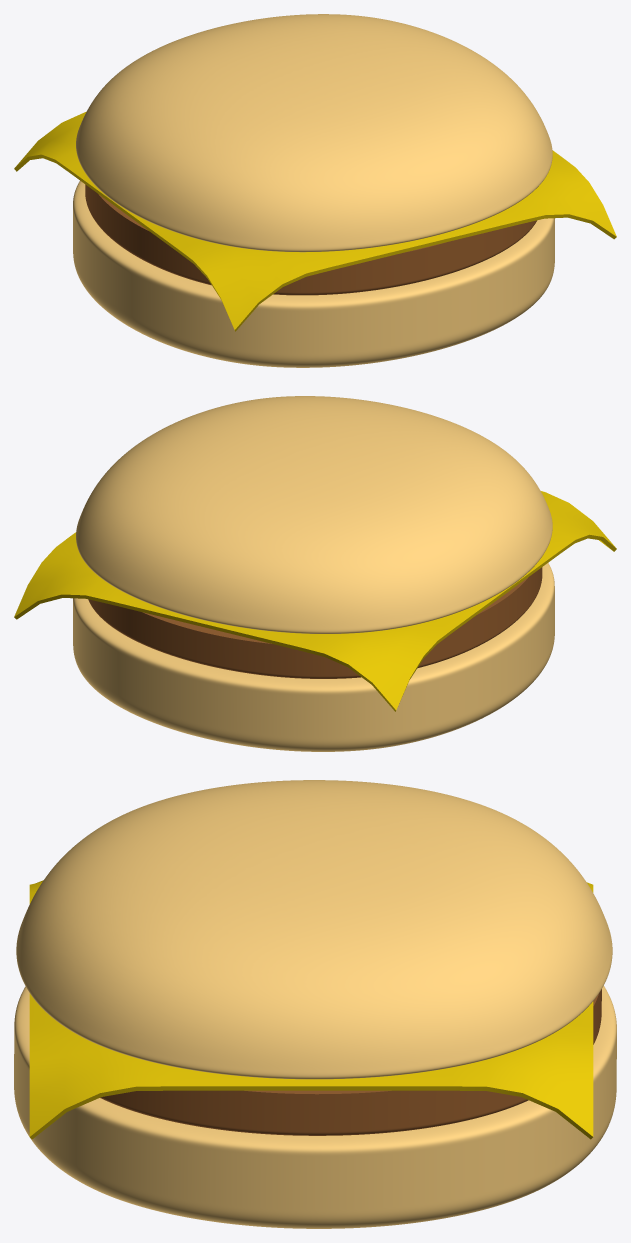
Rendered from hamburger.glb.
The picture shows the model from 3 angles, top to bottom: view 1: azimuth 30°, elevation 25°; view 2: azimuth 150°, elevation 25°; view 3: azimuth 270°, elevation 25°; orthographic projection. The views are drawn at different scales.
Visible parts, largest first — view 1: Cube.002, Cube, Plane, Cube.001; view 2: Cube.002, Cube, Plane, Cube.001; view 3: Cube.002, Cube, Plane, Cube.001.
Boxes of the visible parts, left/top/right/bottom form: Cube.002: left=76, top=14, right=552, bottom=252; Cube: left=73, top=180, right=554, bottom=367; Plane: left=14, top=111, right=616, bottom=331; Cube.001: left=85, top=184, right=536, bottom=295; Cube.002: left=76, top=396, right=552, bottom=633; Cube: left=73, top=563, right=554, bottom=751; Plane: left=14, top=491, right=616, bottom=711; Cube.001: left=88, top=567, right=542, bottom=678; Cube.002: left=16, top=780, right=612, bottom=1079; Cube: left=14, top=986, right=616, bottom=1228; Plane: left=29, top=880, right=593, bottom=1139; Cube.001: left=100, top=989, right=601, bottom=1135.
Bounding box in the file's own units: 9.02 × 4.58 × 9.02.
